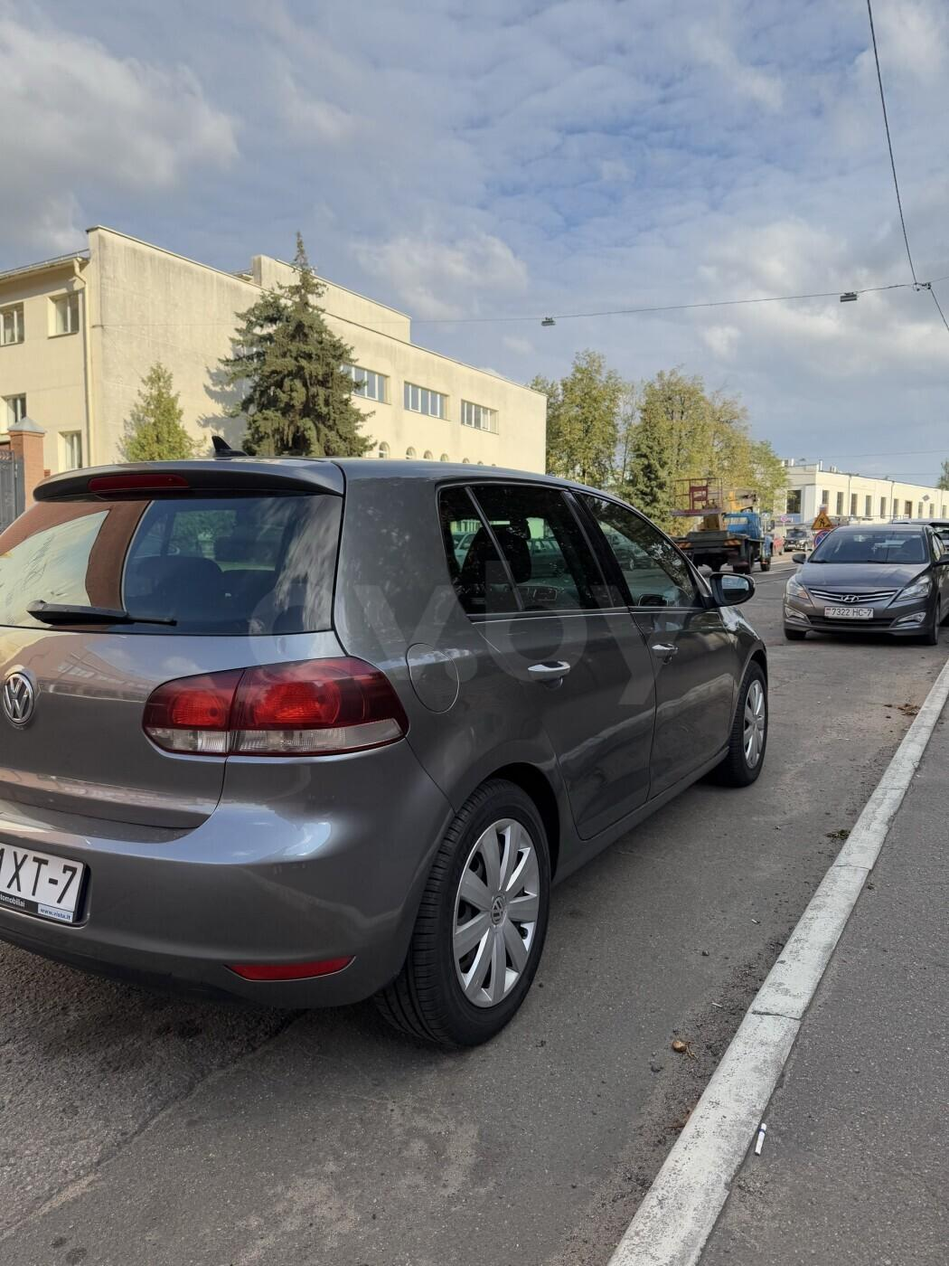Golf_2008-2013: (0, 447, 783, 1040)
